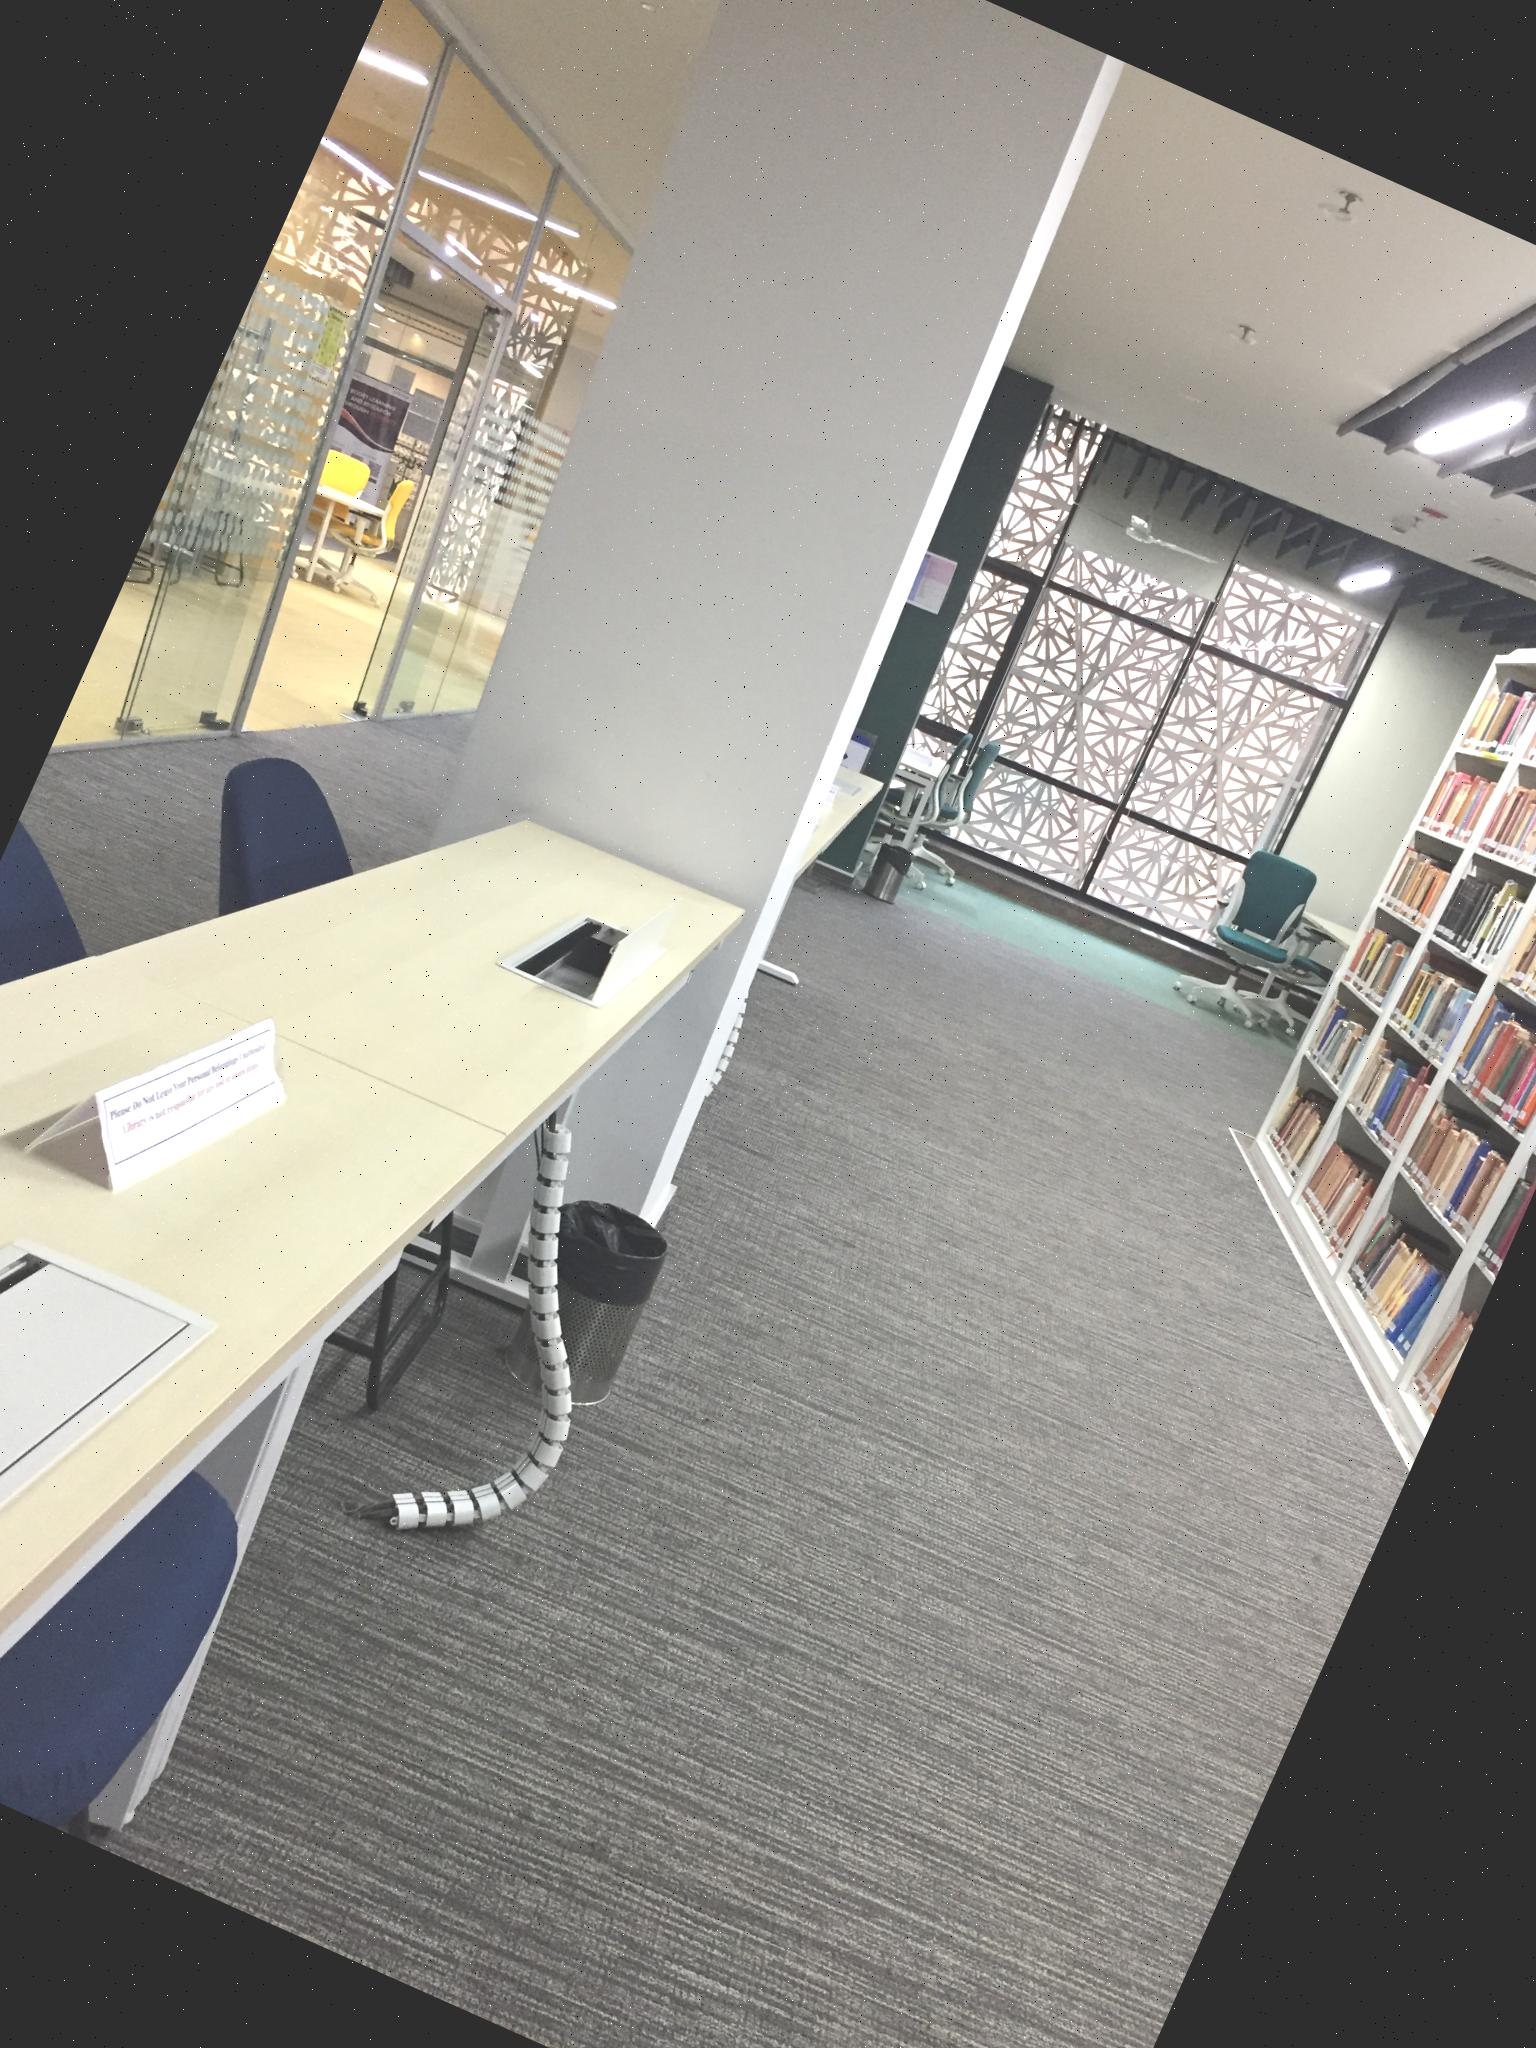chair: (0, 818, 474, 1850), (10, 739, 618, 1411), (1168, 835, 1367, 1050), (857, 710, 1018, 905)
